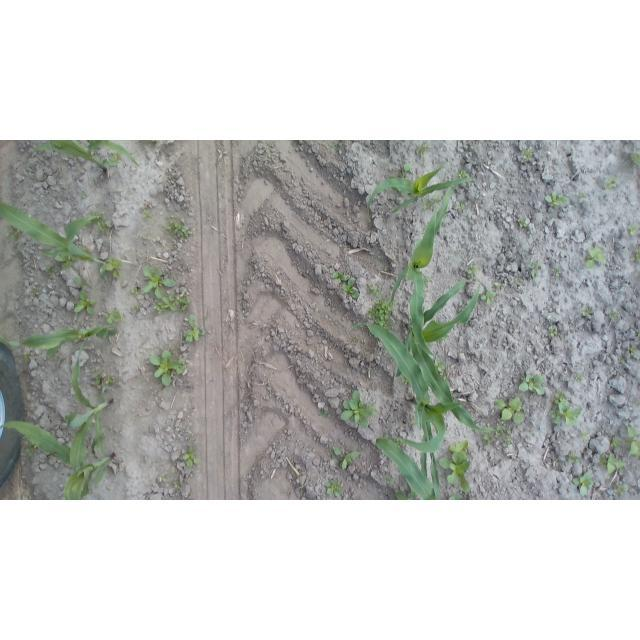Maize: (350, 322, 473, 500), (395, 279, 494, 434), (388, 187, 452, 357), (1, 422, 116, 500), (0, 199, 108, 280), (65, 341, 112, 500), (367, 166, 473, 222), (0, 324, 116, 360), (376, 437, 437, 500), (33, 140, 140, 172)
Weeds: (439, 440, 470, 493), (340, 390, 378, 428), (150, 350, 187, 386), (143, 266, 177, 299), (550, 392, 582, 427), (368, 299, 394, 330), (495, 397, 525, 423), (153, 293, 191, 313), (599, 452, 626, 474), (185, 315, 206, 343), (166, 220, 193, 241), (519, 374, 546, 395), (74, 290, 97, 314), (585, 245, 607, 268), (574, 473, 595, 497), (182, 445, 200, 468), (496, 422, 513, 446), (626, 427, 640, 456), (105, 257, 122, 279), (434, 359, 450, 382), (342, 278, 359, 298), (545, 192, 569, 206), (340, 451, 358, 469), (325, 479, 343, 497), (423, 194, 442, 211), (56, 255, 79, 269), (6, 226, 22, 245), (105, 308, 124, 324), (84, 211, 106, 224), (394, 489, 416, 500), (25, 439, 38, 457), (481, 291, 496, 306), (530, 260, 542, 278), (614, 481, 629, 495), (367, 283, 381, 297), (521, 149, 534, 164), (398, 163, 411, 178), (467, 265, 480, 279), (482, 431, 494, 446), (333, 271, 347, 283), (604, 177, 616, 191), (389, 439, 404, 450), (106, 152, 122, 162), (416, 146, 429, 158), (74, 276, 87, 288), (43, 264, 54, 278), (97, 221, 112, 231), (330, 447, 342, 459), (567, 452, 579, 464), (398, 375, 410, 386), (630, 153, 640, 166), (581, 307, 592, 318), (142, 209, 152, 221), (631, 249, 640, 262), (628, 225, 639, 235), (456, 170, 468, 179), (95, 371, 102, 386), (424, 275, 433, 286), (457, 202, 466, 213), (105, 376, 116, 385), (46, 452, 59, 459), (517, 219, 527, 228), (611, 438, 621, 447), (131, 288, 142, 296), (329, 141, 340, 149), (549, 326, 557, 337), (580, 431, 589, 440), (319, 409, 329, 417), (554, 267, 562, 277), (23, 352, 31, 362), (132, 305, 140, 314), (386, 477, 394, 486), (441, 334, 450, 342), (450, 494, 462, 500), (631, 345, 638, 355), (172, 481, 180, 489), (30, 288, 38, 296), (609, 311, 617, 319), (576, 373, 583, 381), (290, 140, 298, 146), (578, 192, 586, 198), (80, 194, 88, 199), (127, 189, 133, 195), (494, 282, 500, 288), (516, 279, 521, 286), (456, 251, 461, 257), (424, 287, 429, 293), (266, 390, 271, 396), (298, 485, 305, 489), (162, 477, 167, 482), (384, 434, 389, 438), (342, 242, 346, 247), (354, 338, 358, 343), (560, 334, 564, 338), (268, 143, 272, 147), (345, 383, 349, 387), (55, 353, 59, 357), (432, 342, 437, 345), (375, 334, 378, 338), (637, 271, 640, 275), (620, 360, 624, 363), (638, 332, 640, 337), (637, 401, 640, 404), (152, 140, 156, 142), (564, 498, 568, 500), (477, 140, 480, 142)
